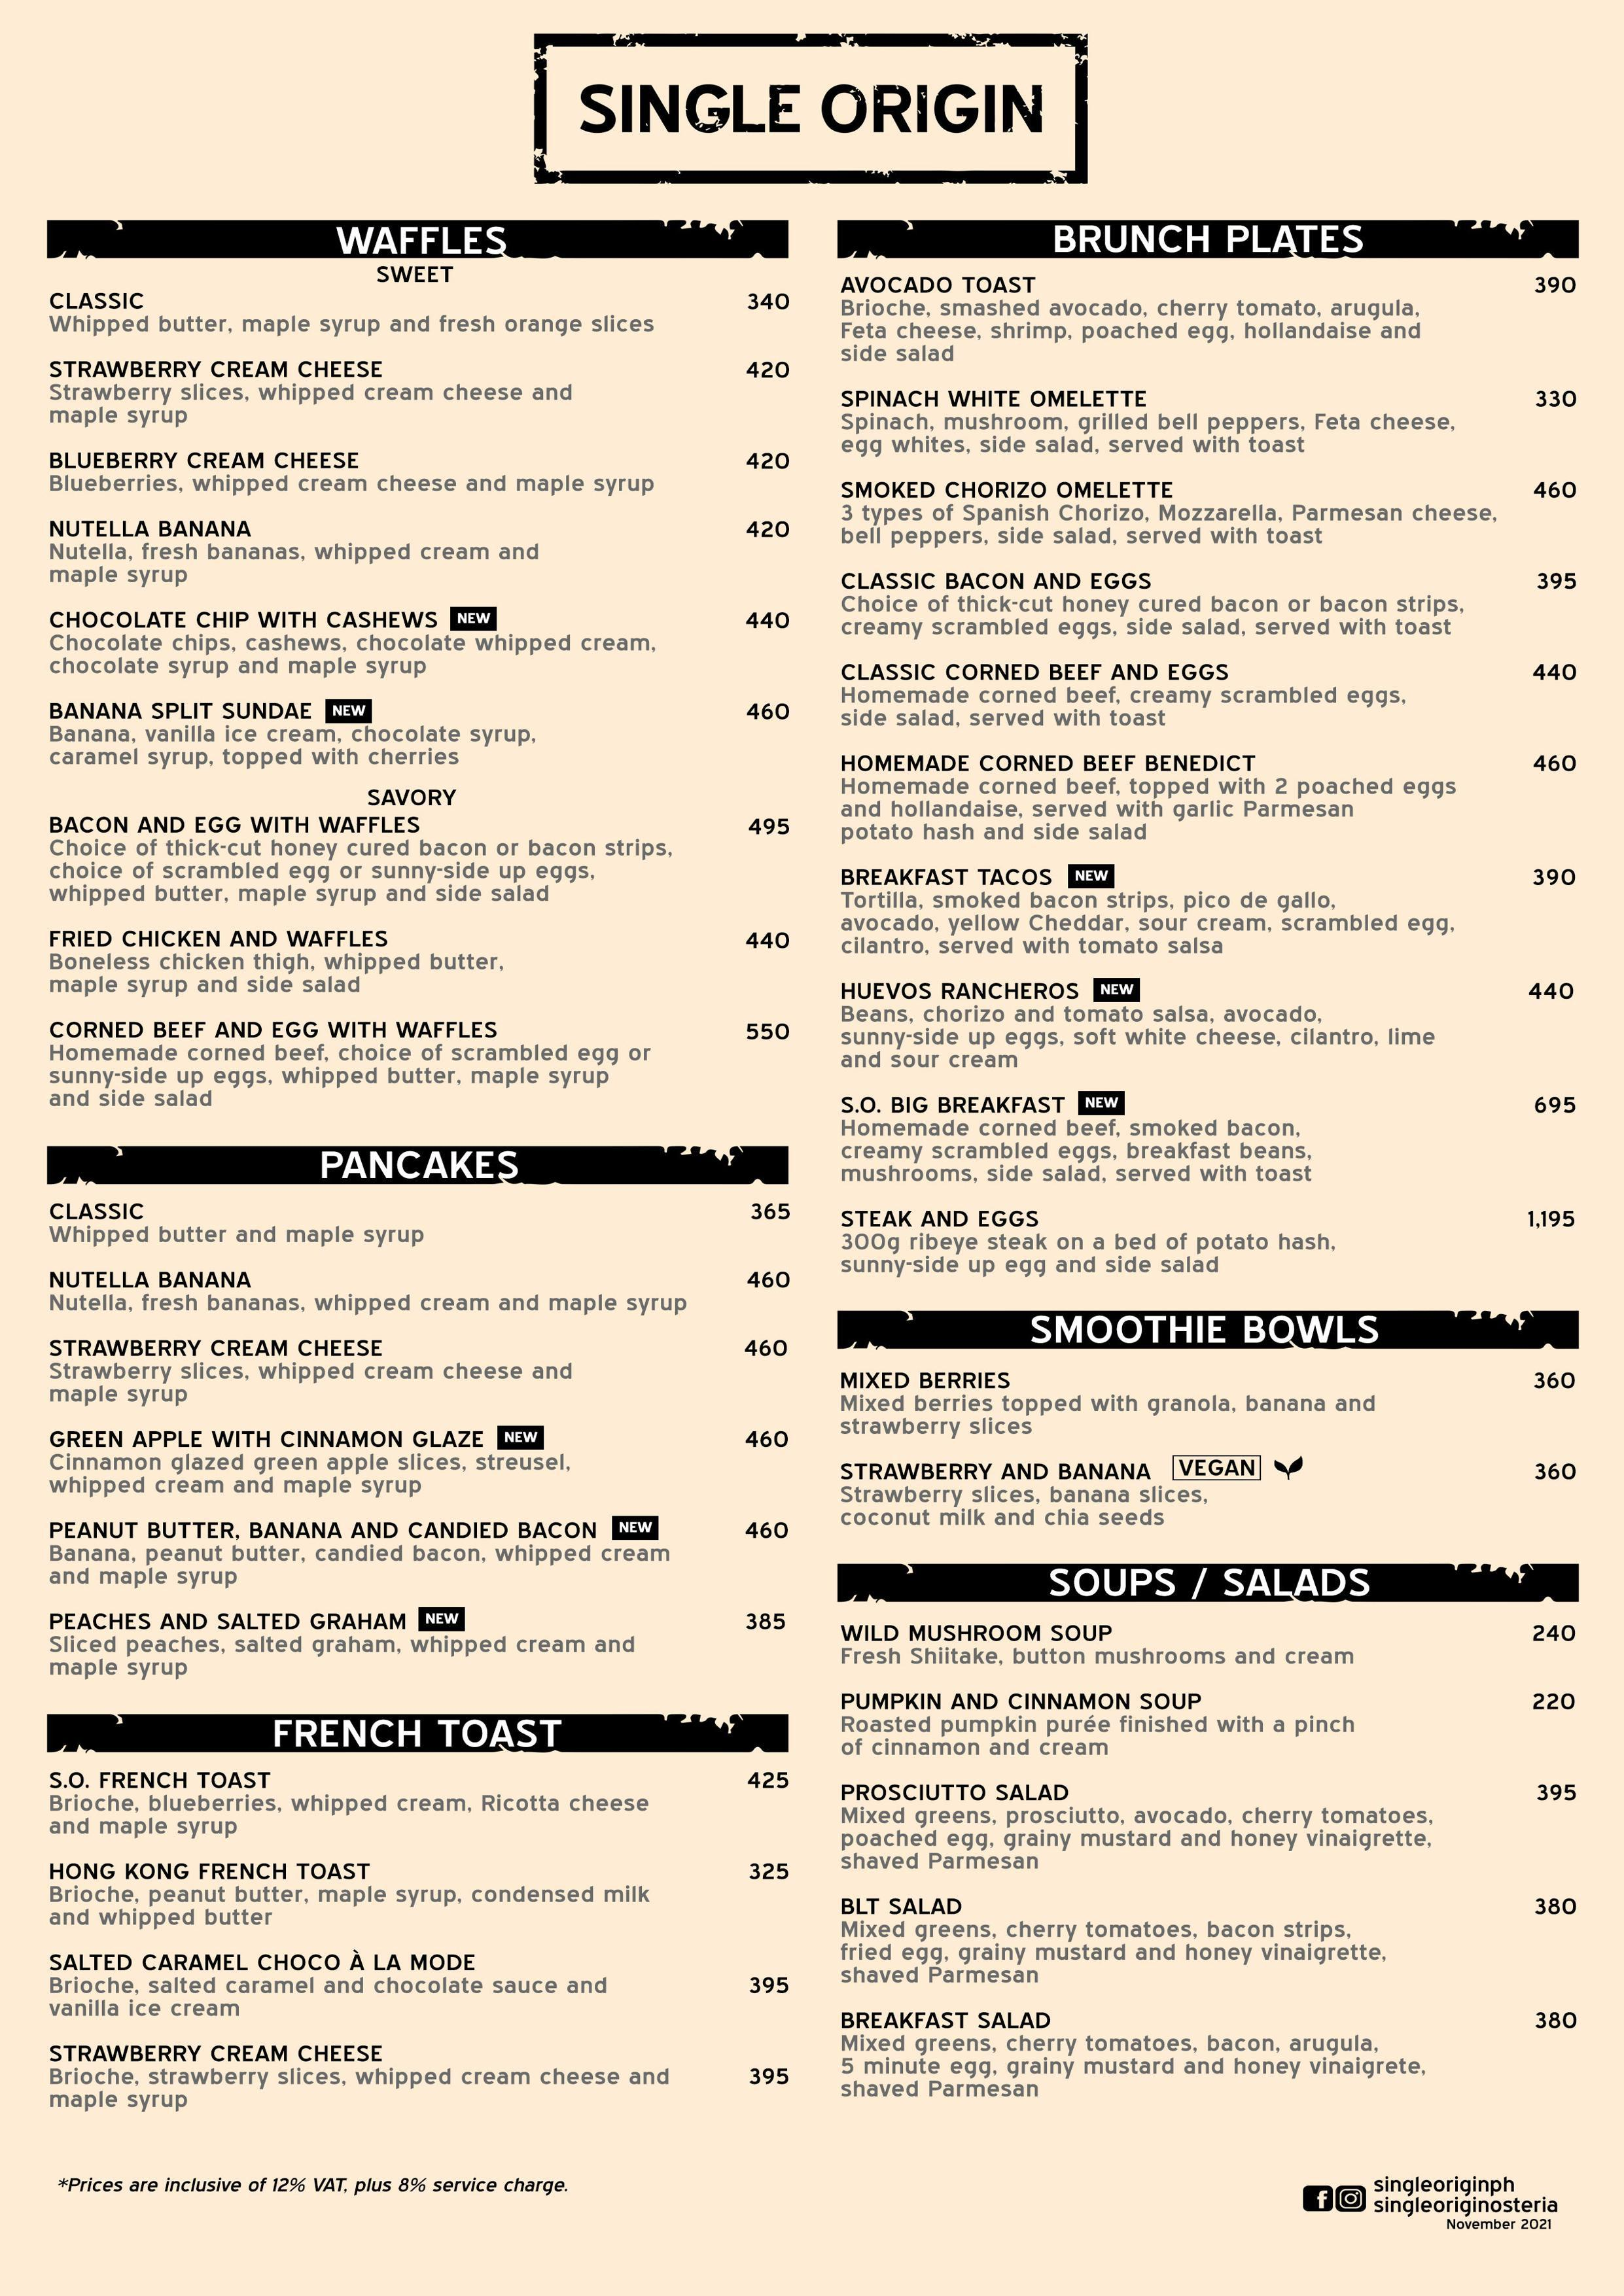description: (50, 836, 678, 906), (842, 888, 1458, 959), (48, 1041, 654, 1109), (841, 1001, 1437, 1070), (841, 295, 1425, 364), (842, 774, 1458, 839), (840, 2032, 1428, 2099), (841, 1805, 1436, 1870), (841, 1919, 1392, 1983), (842, 1116, 1316, 1187), (49, 2064, 671, 2114), (841, 592, 1470, 641), (48, 1790, 651, 1841), (48, 1541, 674, 1589), (840, 409, 1459, 457), (840, 502, 1502, 546), (841, 683, 1414, 732), (48, 632, 662, 678), (51, 1882, 652, 1928), (48, 1633, 639, 1680), (50, 1974, 615, 2022), (839, 1229, 1338, 1283), (48, 383, 573, 432), (840, 1393, 1376, 1440), (49, 1452, 574, 1498), (49, 1361, 575, 1405), (47, 542, 543, 587), (842, 1714, 1356, 1757), (51, 723, 538, 767), (48, 951, 507, 992), (48, 1291, 689, 1317), (841, 1484, 1209, 1527), (49, 472, 663, 497), (48, 313, 660, 334), (839, 1644, 1358, 1667), (49, 1223, 429, 1249)
item: (838, 967, 1589, 1078), (839, 855, 1593, 963), (843, 1087, 1590, 1191), (838, 2006, 1588, 2107), (841, 271, 1577, 371), (48, 810, 798, 908), (46, 1018, 803, 1114), (839, 1778, 1582, 1874), (839, 1892, 1581, 1986), (839, 750, 1585, 843), (837, 1199, 1589, 1289), (839, 656, 1582, 740), (839, 565, 1589, 644), (838, 1455, 1585, 1534), (44, 515, 805, 592), (46, 607, 794, 686), (837, 475, 1584, 553), (46, 354, 799, 431), (46, 1604, 788, 1681), (46, 1422, 794, 1499), (46, 925, 796, 1001), (48, 1857, 802, 1932), (46, 2041, 796, 2116), (836, 1364, 1583, 1439), (46, 1949, 800, 2023), (839, 385, 1581, 461), (48, 698, 809, 772), (48, 1333, 796, 1408), (46, 1515, 797, 1589), (46, 1767, 799, 1841), (842, 1686, 1584, 1758), (46, 1196, 798, 1250), (838, 1618, 1584, 1671), (46, 1266, 796, 1319), (46, 447, 797, 498), (41, 288, 803, 335)
price: (1527, 1206, 1576, 1232), (743, 699, 796, 722), (746, 290, 792, 315), (743, 1019, 790, 1043), (744, 1518, 789, 1543), (743, 1426, 788, 1451), (743, 451, 790, 474), (743, 1609, 788, 1633), (1528, 977, 1574, 1001), (1533, 1781, 1578, 1804), (745, 357, 791, 380), (743, 1336, 788, 1359), (1533, 1459, 1578, 1482), (745, 1769, 792, 1791), (746, 1860, 793, 1882), (748, 816, 792, 839), (1532, 752, 1578, 774), (1532, 1093, 1579, 1115), (1534, 2009, 1580, 2031), (1531, 866, 1577, 888), (747, 611, 790, 633), (1530, 1690, 1577, 1711), (1532, 479, 1580, 500), (1534, 275, 1577, 297), (747, 519, 792, 540), (747, 930, 790, 952), (1532, 1368, 1576, 1390), (1535, 388, 1578, 409), (1531, 1624, 1575, 1644), (750, 1200, 791, 1223), (746, 1270, 791, 1290), (1531, 663, 1578, 682), (749, 1975, 791, 1995), (1536, 571, 1579, 591), (1533, 1898, 1577, 1917), (748, 2067, 791, 2086)
tittle: (48, 1520, 605, 1542), (50, 1426, 487, 1451), (48, 1020, 501, 1042), (50, 1953, 480, 1974), (841, 753, 1259, 774), (48, 1336, 387, 1361), (48, 1609, 410, 1633), (841, 1690, 1204, 1713), (50, 814, 426, 835), (47, 357, 389, 380), (842, 663, 1227, 683), (48, 610, 442, 630), (841, 479, 1177, 502), (841, 569, 1154, 593), (48, 449, 366, 472), (49, 2043, 386, 2064), (49, 930, 390, 950), (50, 1860, 378, 1881), (839, 1621, 1114, 1646), (841, 1461, 1157, 1482), (841, 389, 1149, 409), (48, 700, 315, 723), (840, 979, 1080, 1002), (48, 517, 256, 542), (840, 1781, 1070, 1804), (843, 1093, 1066, 1116), (841, 865, 1056, 888), (48, 1268, 259, 1291), (842, 2009, 1053, 2032), (841, 1208, 1043, 1230), (839, 1368, 1012, 1393), (49, 1771, 273, 1790), (842, 274, 1036, 295), (841, 1894, 965, 1917), (48, 291, 150, 313), (50, 1200, 148, 1223)
